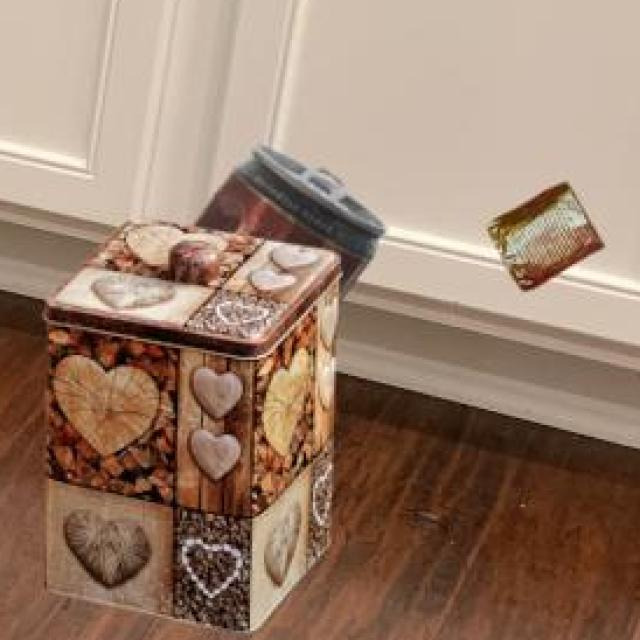logam: (48, 216, 345, 632), (197, 144, 389, 300), (492, 181, 606, 286)
